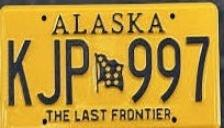7: (184, 35, 213, 104)
9: (126, 36, 156, 103), (156, 36, 184, 104)
J: (34, 39, 65, 107)
K: (5, 37, 36, 108)
P: (61, 38, 92, 106)
